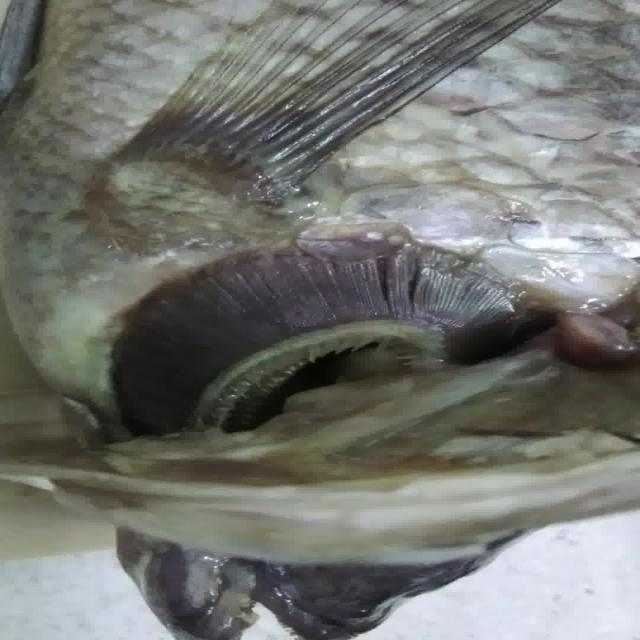Non-Fresh: (97, 222, 549, 432)
